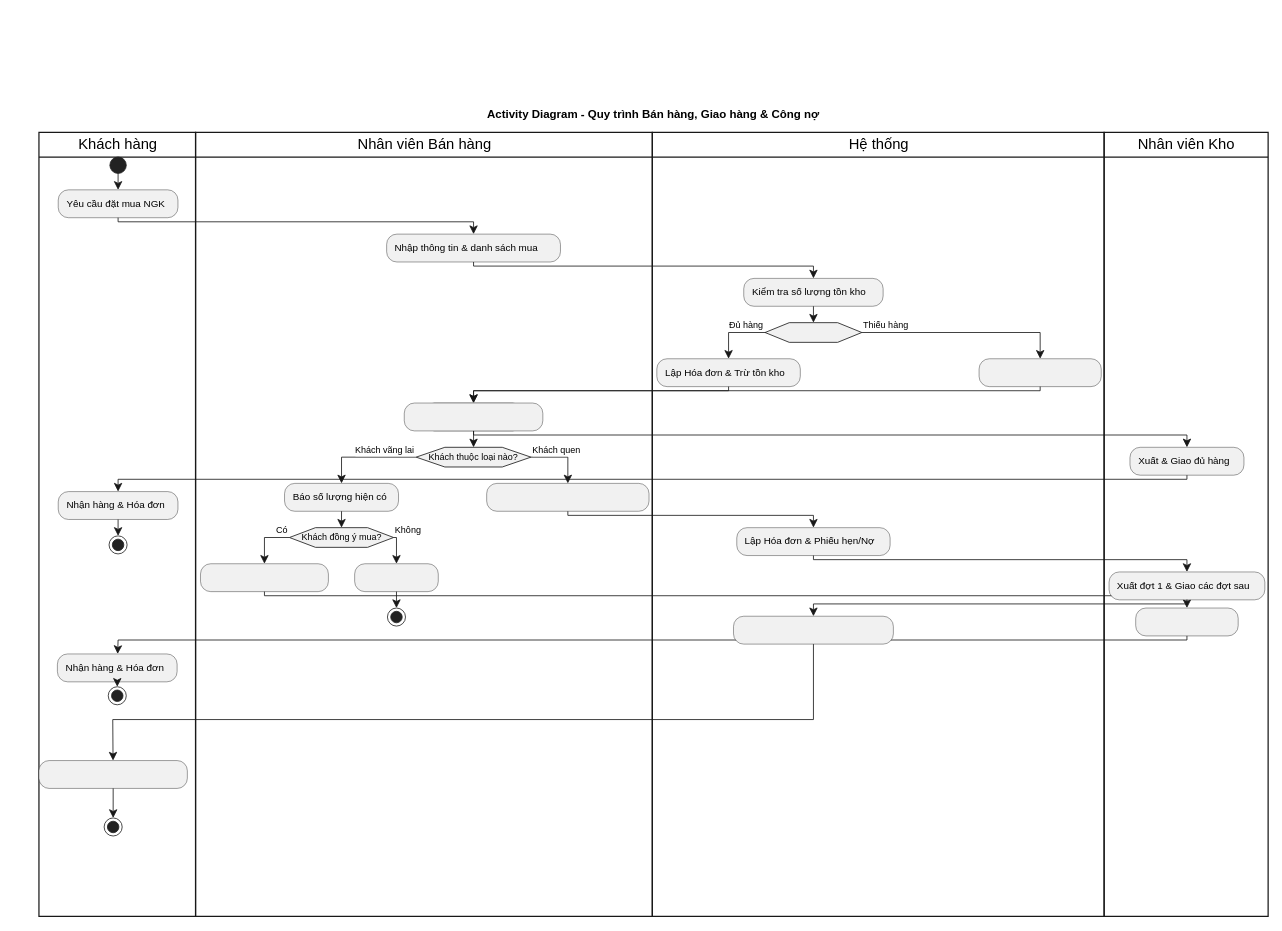
This 1282x931 diagram has some shape labels left out. The centre of each missing label's shape, as x and y in pixels:
Cập nhật trạng thái phiếu hẹn: (x=813, y=630)
Hủy giao dịch: (x=396, y=577)
Kiểm tra tồn kho?: (x=813, y=332)
Lập Hóa đơn & Thu tiền: (x=264, y=577)
Nhận đủ hàng theo Hóa đơn: (x=112, y=774)
Thông báo thiếu hàng: (x=1040, y=372)
Thỏa thuận hẹn giao nhiều đợt: (x=567, y=497)
Xuất hàng hiện có: (x=1186, y=621)
Xác định phân loại khách: (x=473, y=416)
